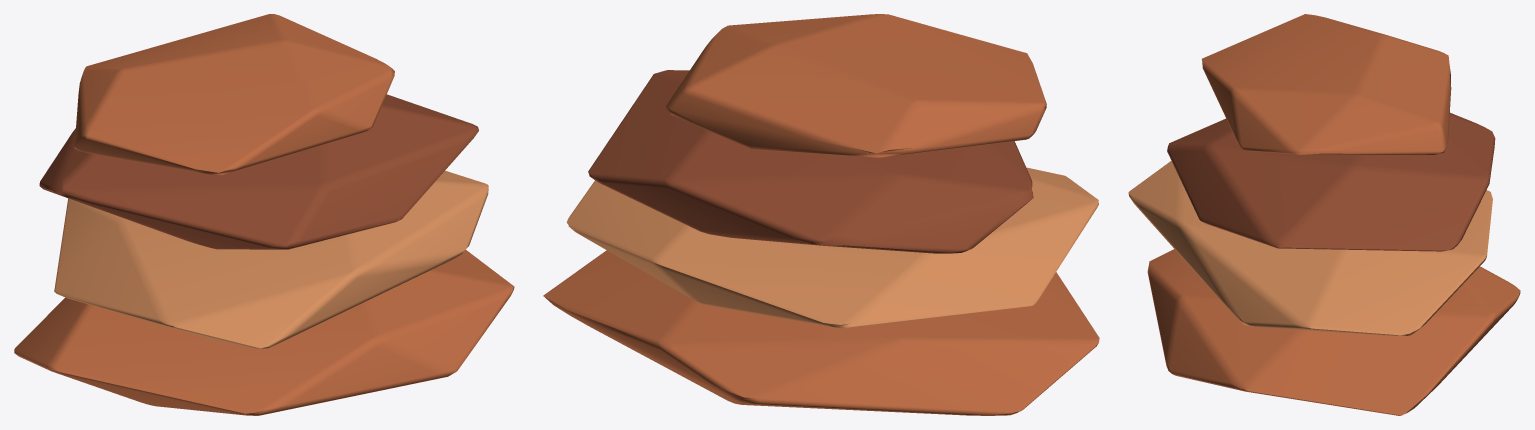
File: rocher_desert_1.glb
3 views of the same model, side by side, from view 1: azimuth 30°, elevation 25°; view 2: azimuth 150°, elevation 25°; view 3: azimuth 270°, elevation 25° (orthographic). The views are drawn at different scales.
Parts seen in each view (by area): view 1: roche_gres.006, roche_gres_clair.006, roche_gres_sombre.006; view 2: roche_gres.006, roche_gres_sombre.006, roche_gres_clair.006; view 3: roche_gres.006, roche_gres_sombre.006, roche_gres_clair.006.
Boxes of the visible parts, x1,y1,x2,y2 form: roche_gres.006: (14, 14, 514, 415); roche_gres_clair.006: (54, 170, 488, 349); roche_gres_sombre.006: (39, 94, 478, 249); roche_gres.006: (543, 14, 1099, 415); roche_gres_sombre.006: (588, 70, 1033, 253); roche_gres_clair.006: (566, 167, 1098, 328); roche_gres.006: (1147, 14, 1520, 415); roche_gres_sombre.006: (1167, 112, 1495, 251); roche_gres_clair.006: (1128, 161, 1492, 335).
Bounding box in the file's own units: 0.8816 × 0.5364 × 0.7225.
